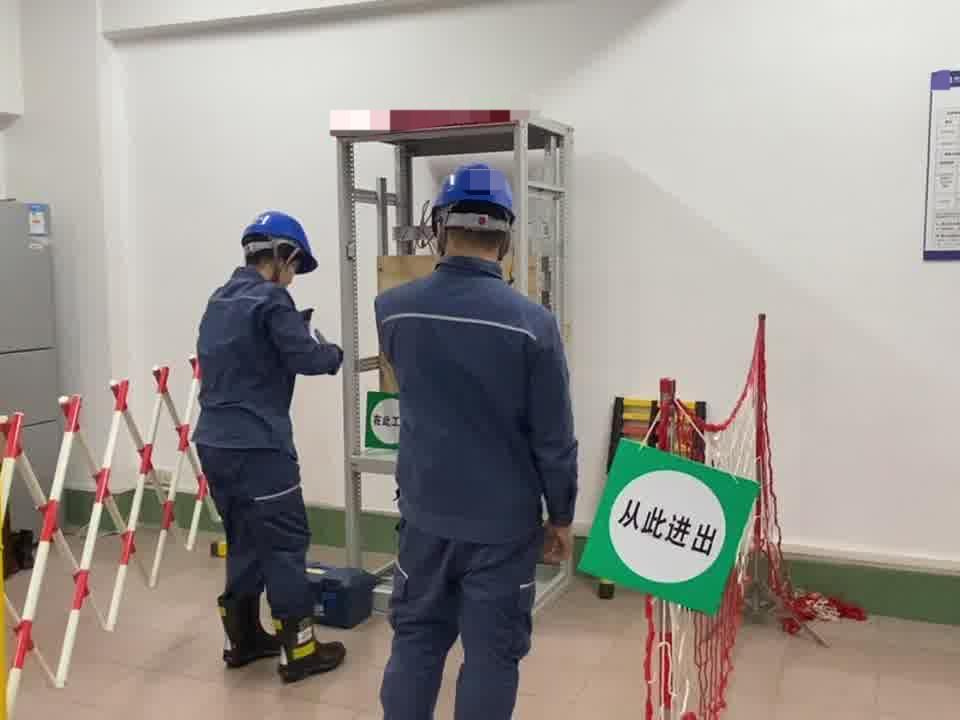halt: (431, 163, 524, 265), (241, 212, 320, 287)
inear: (272, 244, 295, 283)
